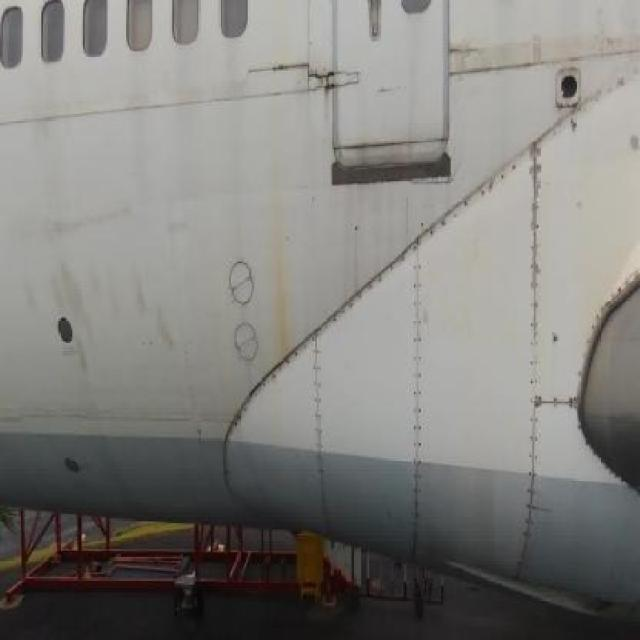Missing-Rivet: (524, 125, 550, 549), (402, 228, 432, 534), (438, 161, 524, 245), (237, 343, 305, 437), (322, 262, 400, 336), (308, 323, 332, 508), (550, 368, 582, 438)
Rust: (259, 127, 301, 368), (318, 53, 350, 124)
Scartch: (10, 258, 181, 393), (21, 190, 147, 245), (449, 25, 548, 83), (592, 5, 640, 69), (162, 203, 202, 271)
